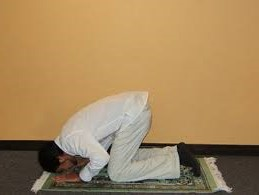sujud: (37, 87, 205, 184)
